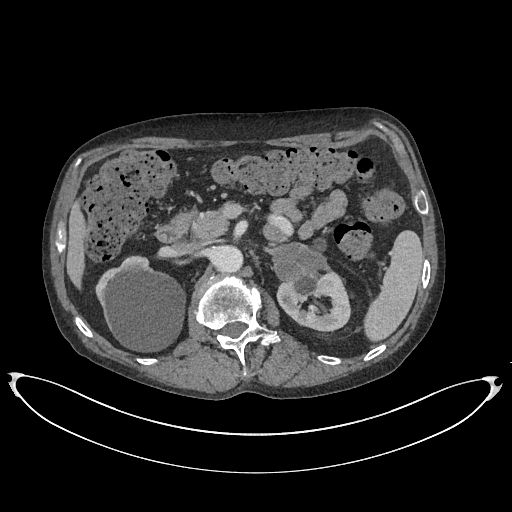Lesion: (267, 240, 334, 289)
